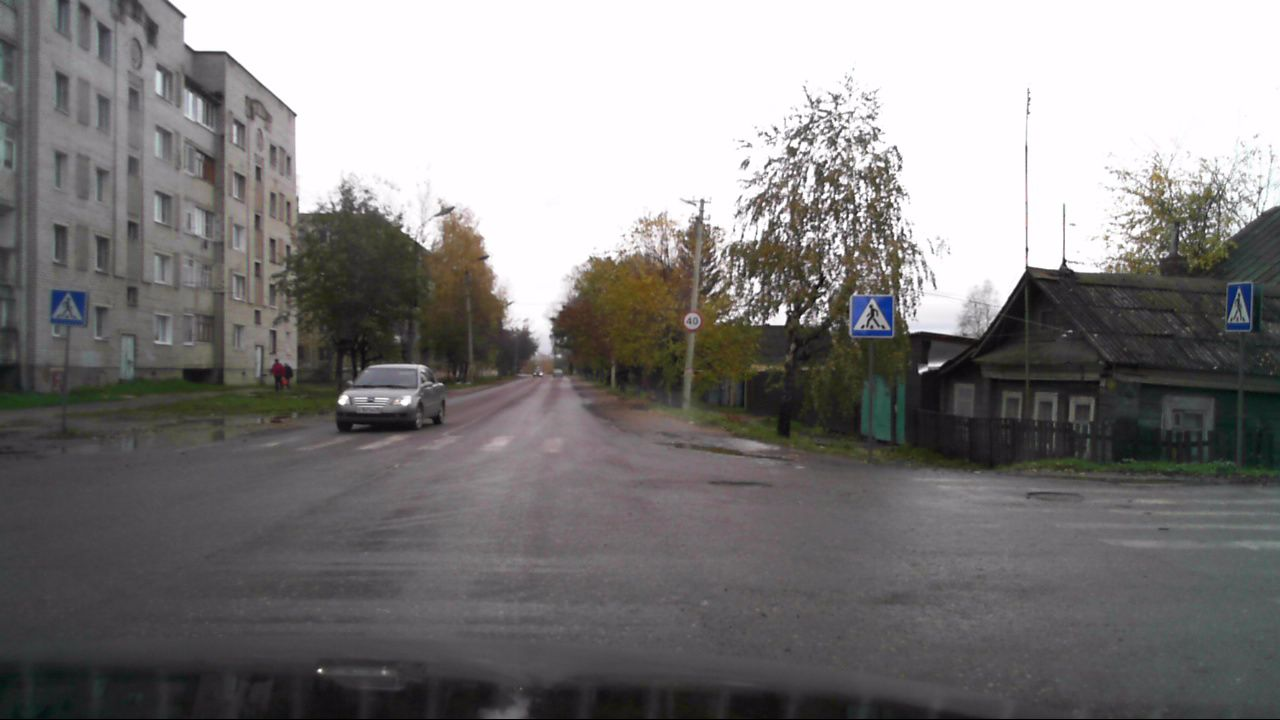speed_warning_40: (684, 311, 702, 330)
